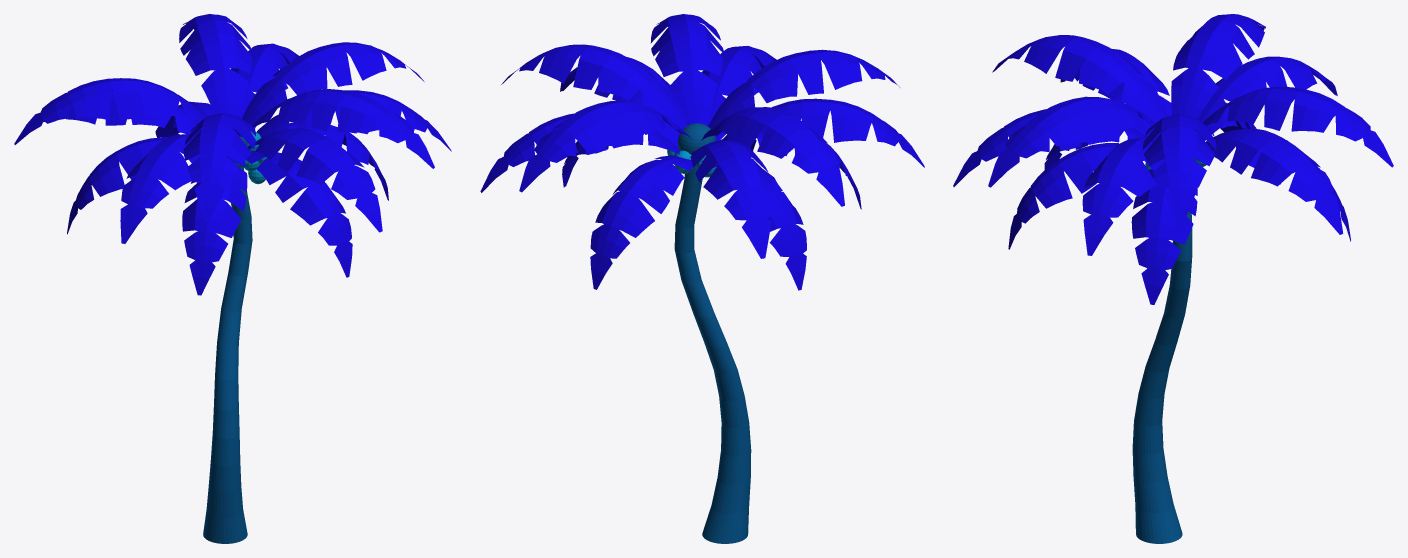
File: Palm tree.fbx
The picture shows the model from 3 angles, left to right: view 1: azimuth 30°, elevation 25°; view 2: azimuth 150°, elevation 25°; view 3: azimuth 270°, elevation 25°; orthographic projection. The views are drawn at different scales.
Visible parts, largest first — view 1: Cylinder; view 2: Cylinder; view 3: Cylinder.
Boxes of the visible parts, x1,y1,x2,y2 form: Cylinder: (14,14,451,543); Cylinder: (480,14,924,543); Cylinder: (953,14,1393,543).
Bounding box in the file's own units: 522 × 605 × 513.
